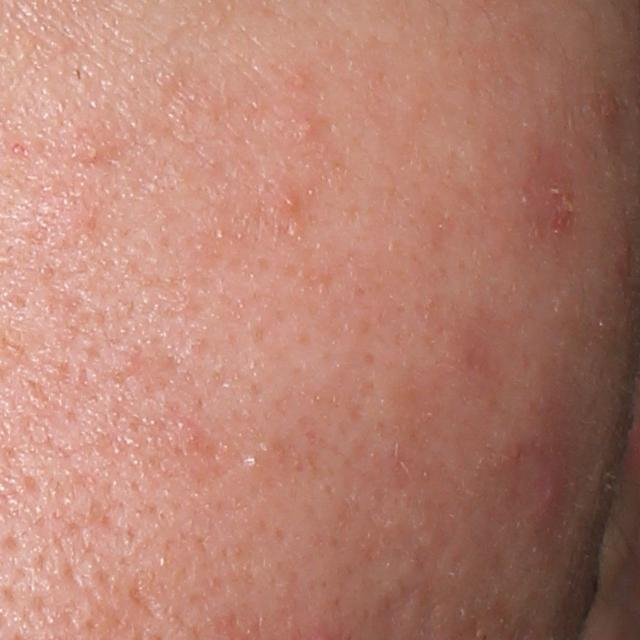comedo: (239, 450, 258, 471)
